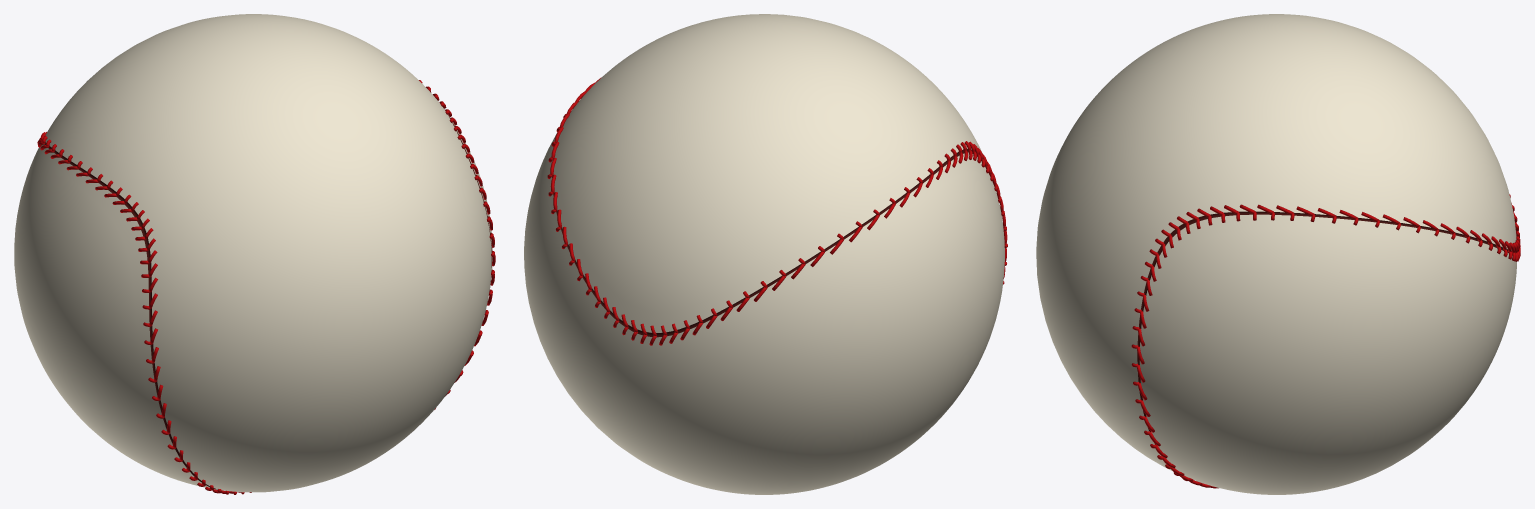
3 views of the same model, side by side, from view 1: azimuth 30°, elevation 25°; view 2: azimuth 150°, elevation 25°; view 3: azimuth 270°, elevation 25° (orthographic).
Parts seen in each view (by area): view 1: MESH_baseball; view 2: MESH_baseball; view 3: MESH_baseball.
Part boxes in pixels (x1,y1,x2,y2): MESH_baseball: (14,14,495,494); MESH_baseball: (524,14,1007,494); MESH_baseball: (1036,14,1520,494).
Size of the model in its own units: 0.0738 by 0.0739 by 0.0743.
